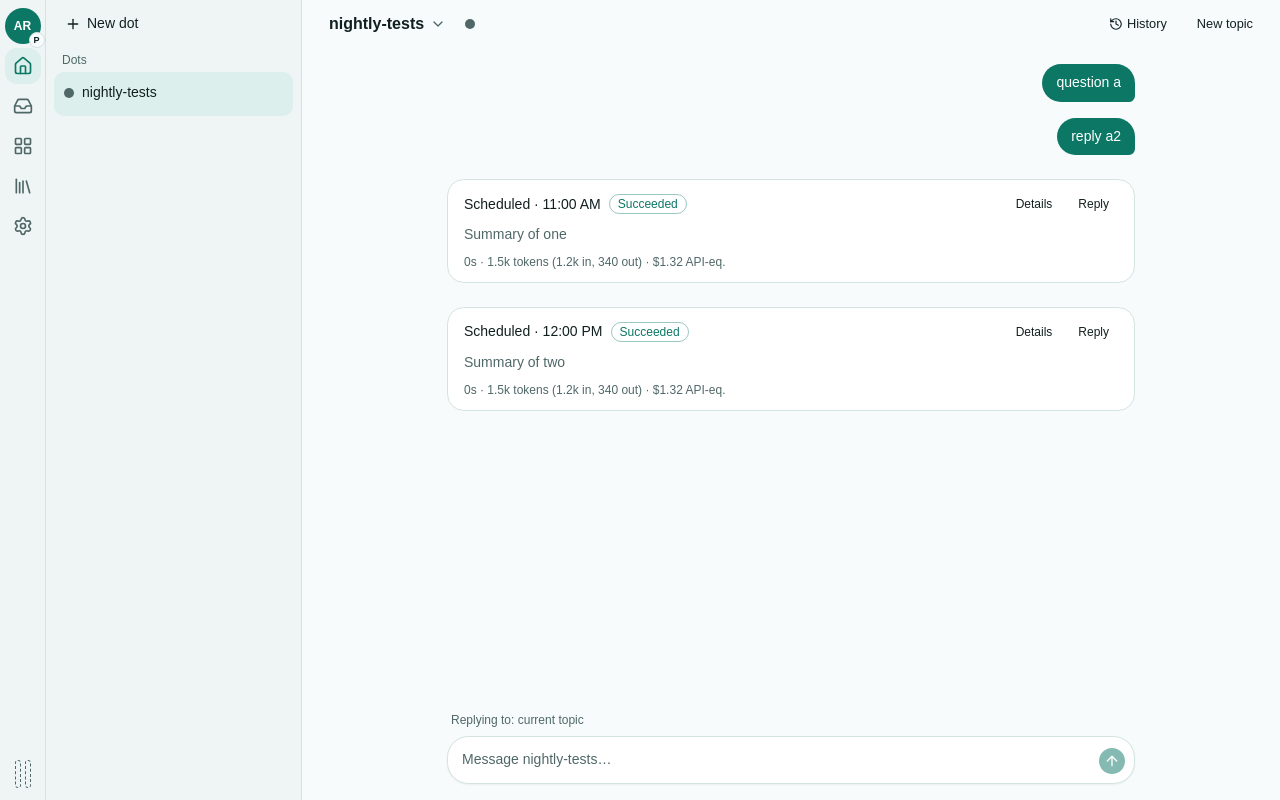
Test: sending on the home › replies to the run topic whose Reply was pressed, until ✕
The image size is (1280, 800).
Expected: the text box labelled "Message" is enabled, [456, 745, 1090, 775]
Expected: the element named "Reply target" reads "Replying to: current topic", [451, 713, 584, 727]
Click the button "Reply" in the row of "Scheduled · 11:00 AM": (1094, 204) [1069, 192, 1118, 216]
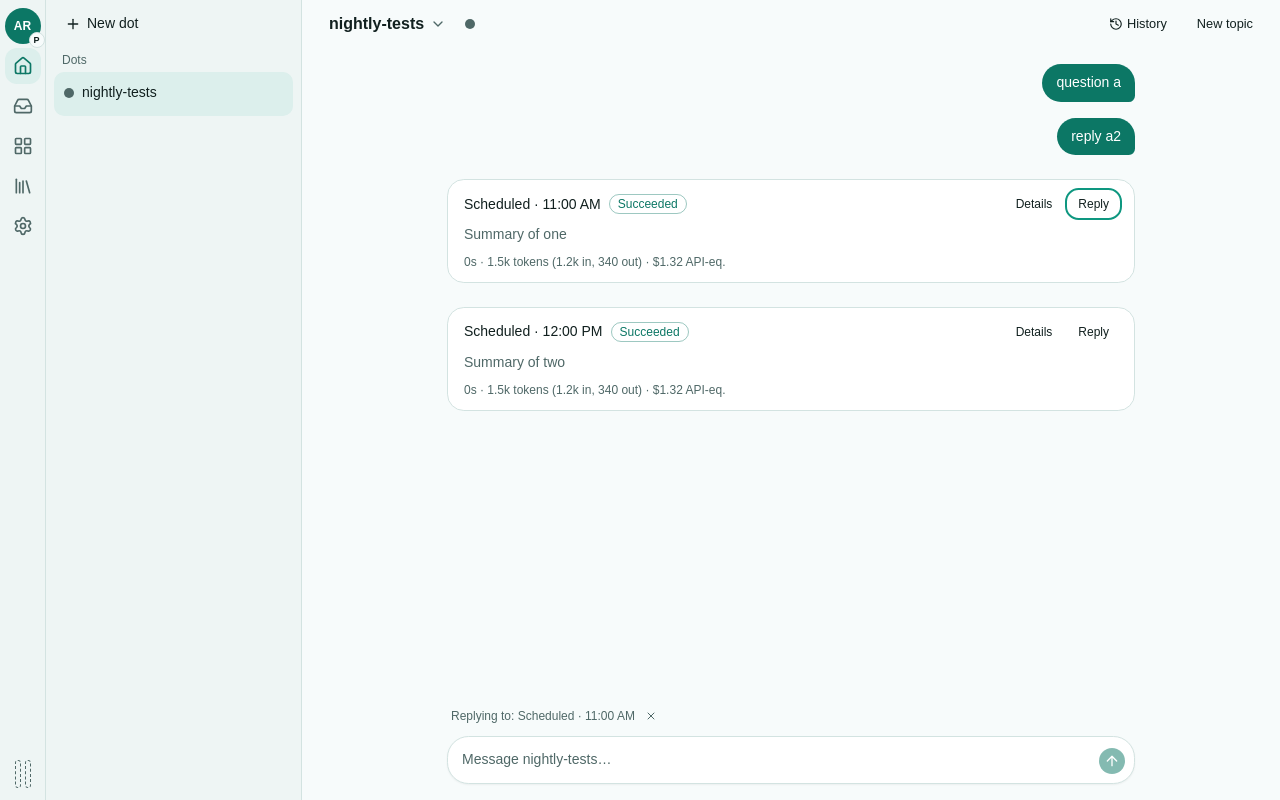
Click the button named "Clear the reply target": (651, 716) [639, 704, 663, 728]
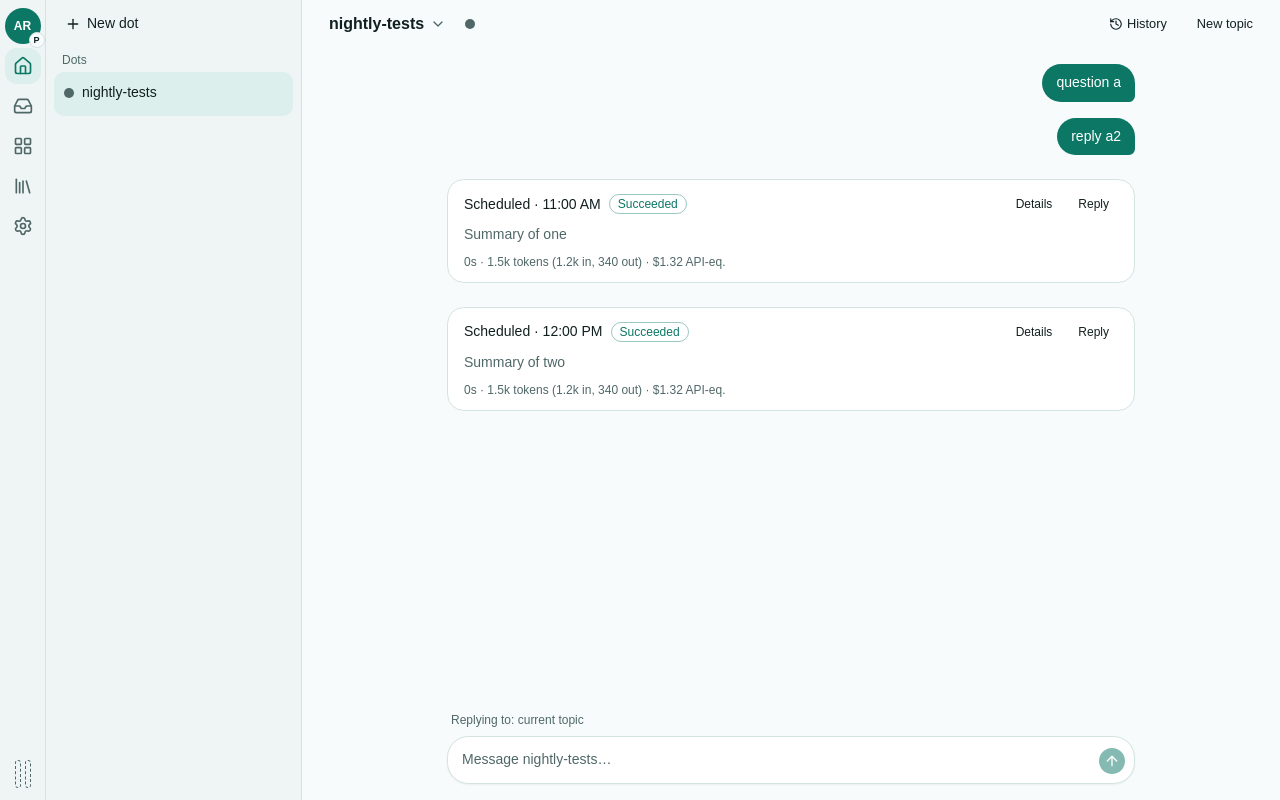
Result: the element named "Reply target" reads "Replying to: current topic" at [451, 713, 584, 727]
Click the button "Reply" in the row of "Scheduled · 11:00 AM": (1094, 204) [1069, 192, 1118, 216]
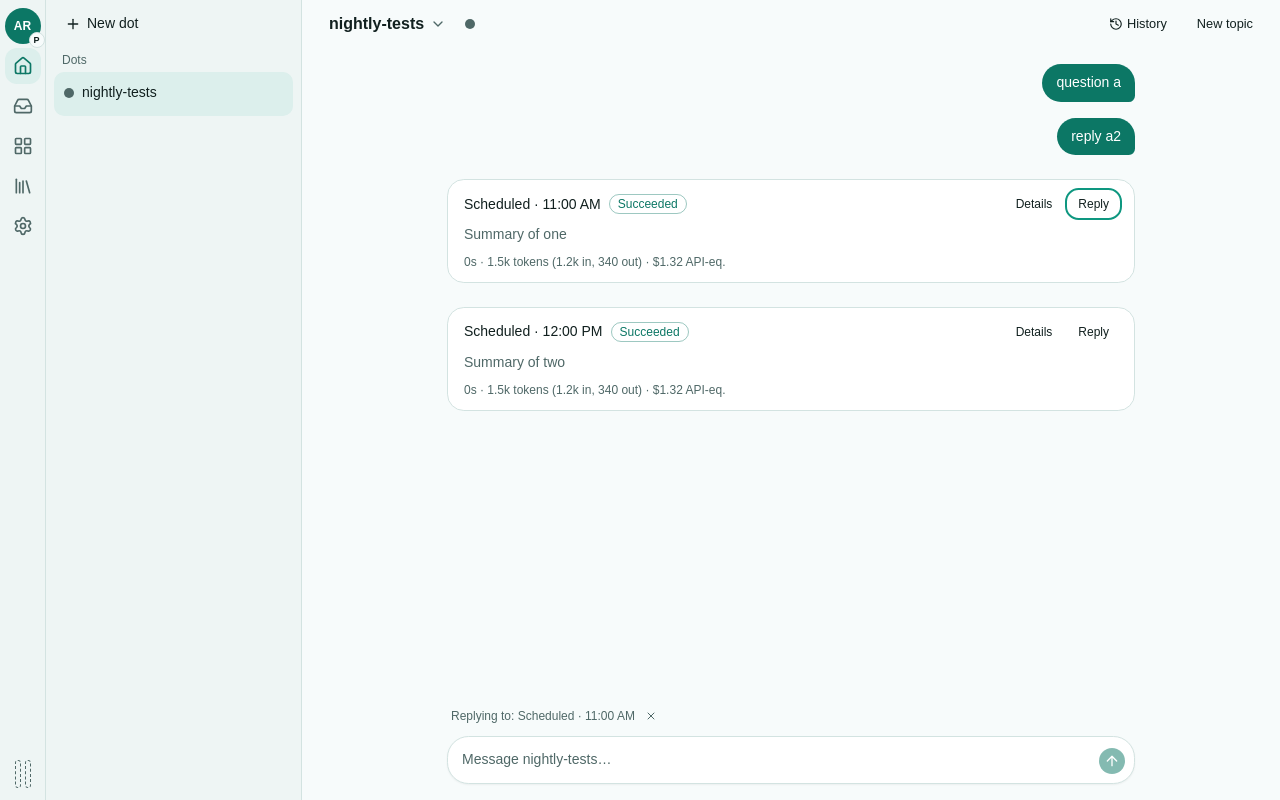
In the text box labelled "Message": (773, 760) [456, 745, 1090, 775], type "Why that one?"
Then press Enter
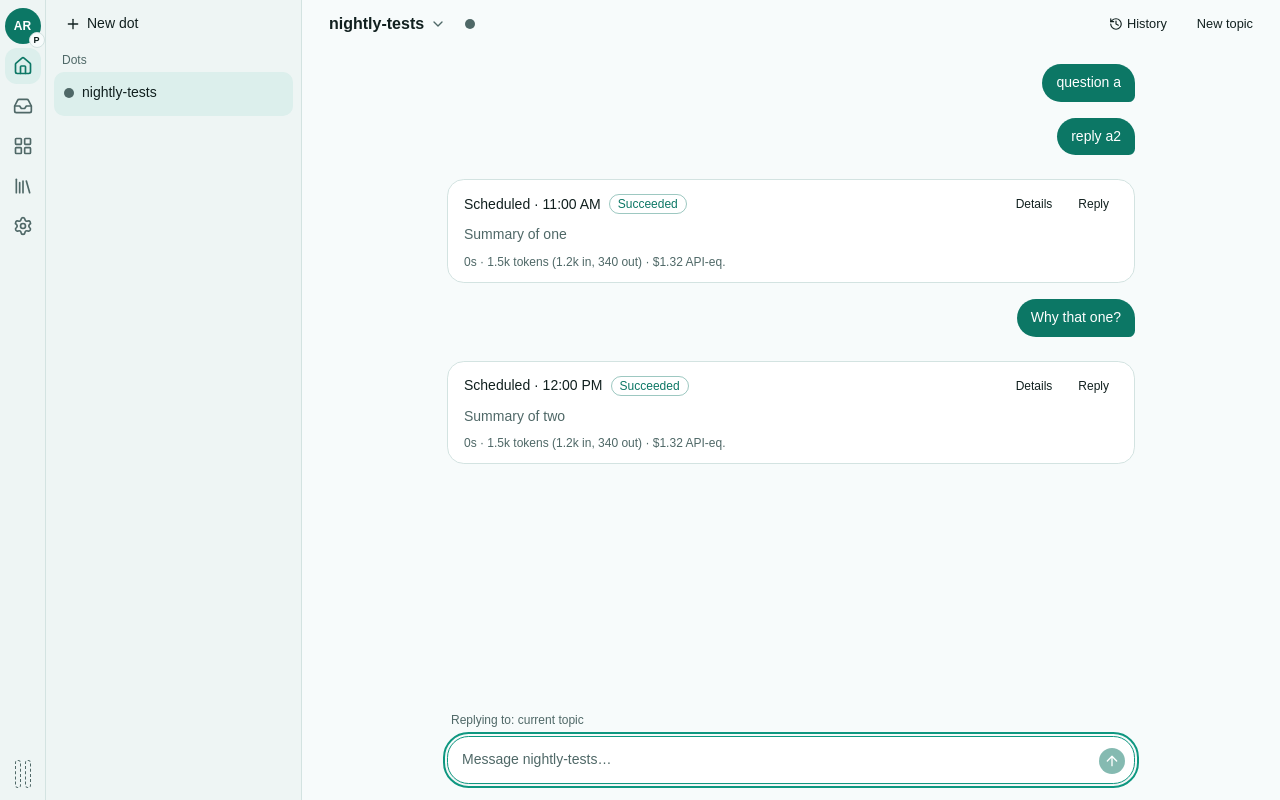
Result: the element named "Reply target" reads "Replying to: current topic" at [451, 713, 584, 727]
